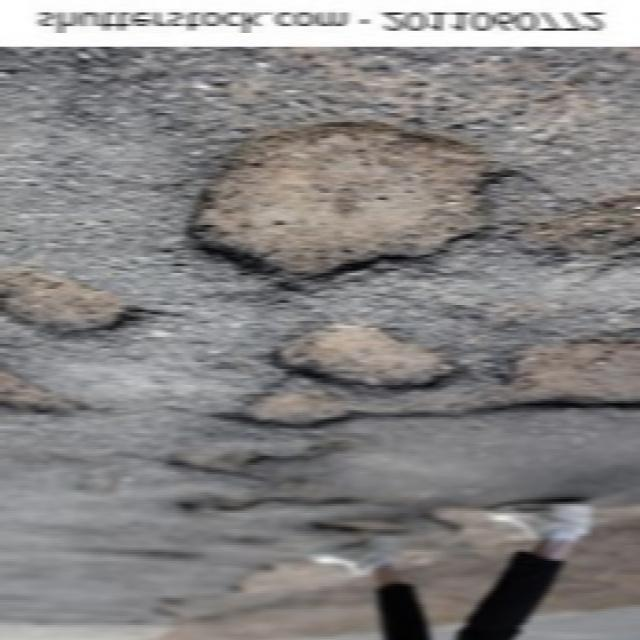Pothole: (173, 111, 516, 282), (260, 317, 472, 389), (490, 328, 640, 409), (0, 272, 153, 347), (178, 426, 344, 481), (235, 380, 343, 429), (0, 365, 86, 412)
